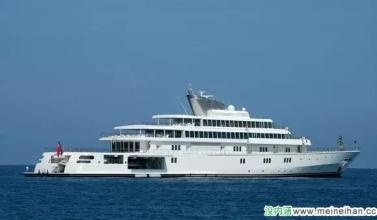yacht: (27, 88, 369, 178)
